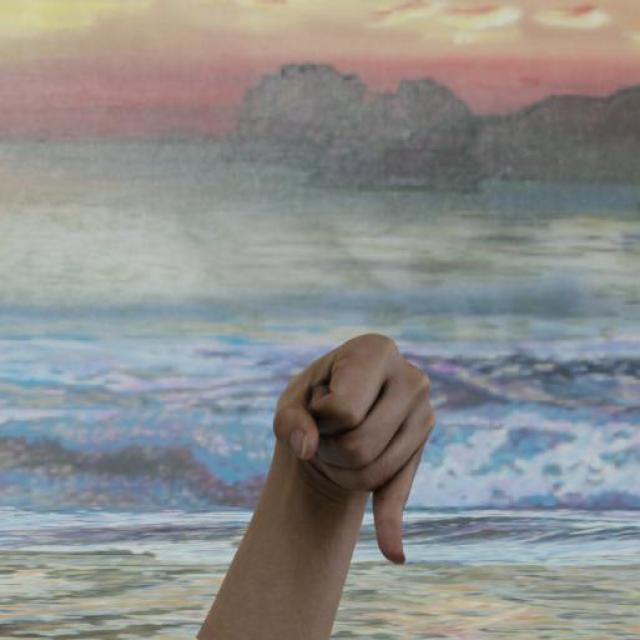J: (203, 302, 488, 640)
